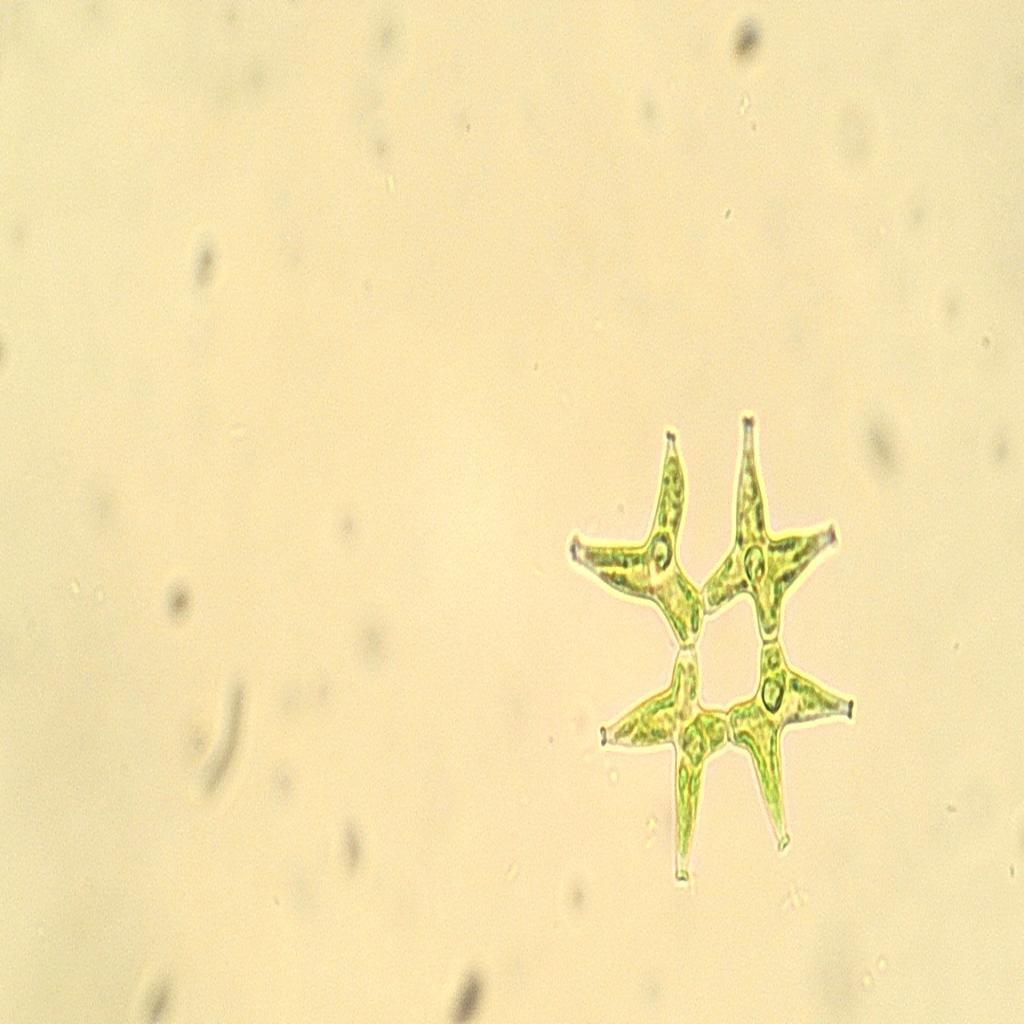Pediastrum_CT: (562, 382, 881, 906)
